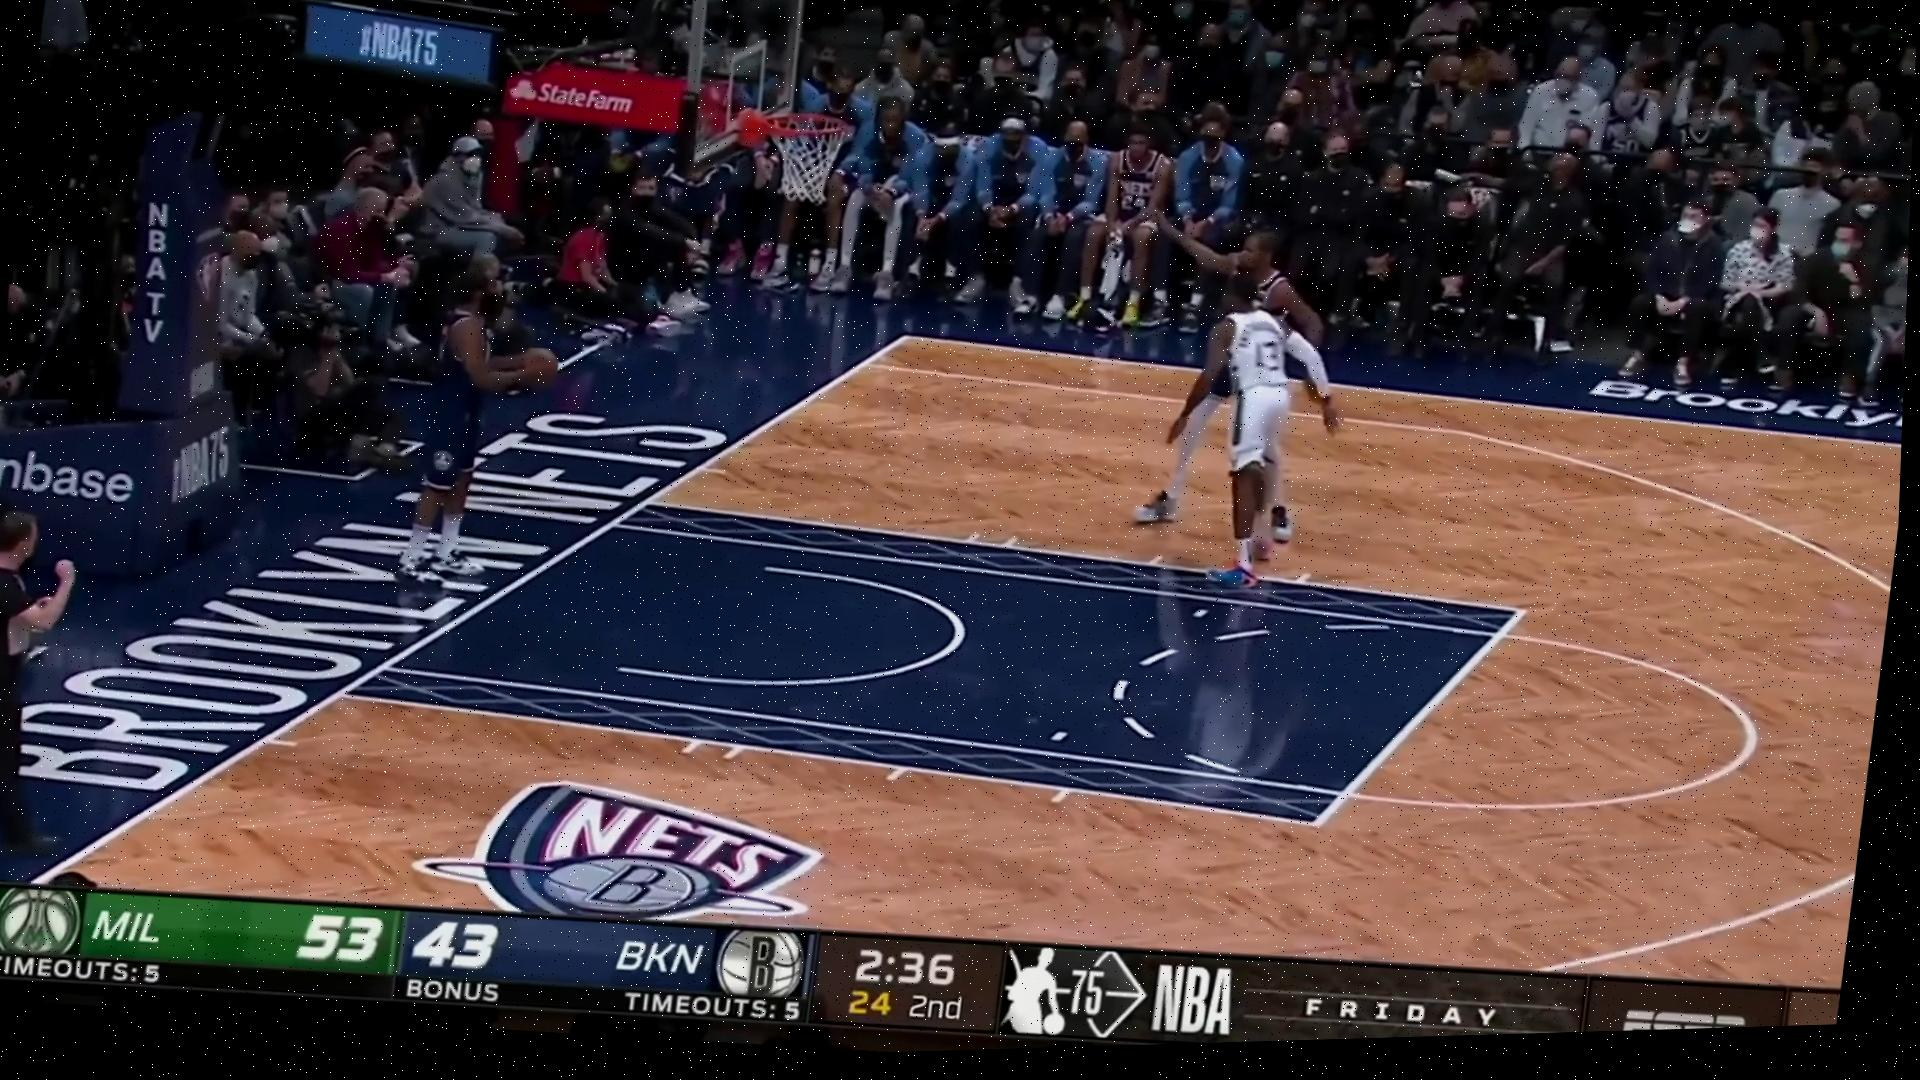no_foul: (1131, 199, 1395, 575)
